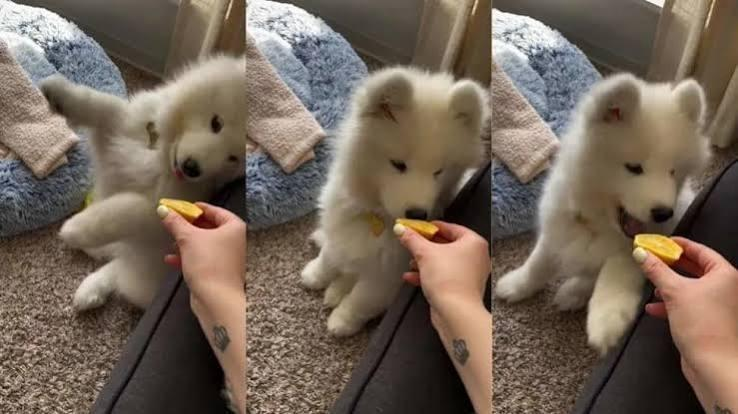puppy-dog: (495, 73, 713, 356), (39, 52, 249, 318), (298, 65, 488, 337)
